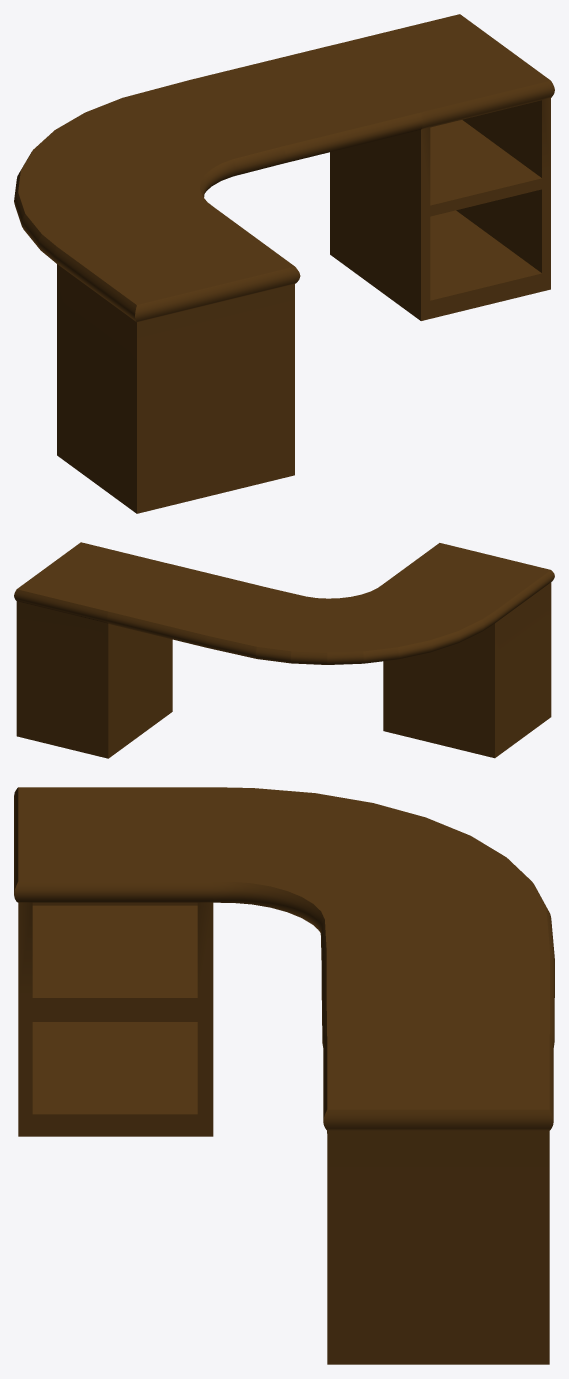
Rendered from Desk.fbx.
The picture shows the model from 3 angles, top to bottom: view 1: azimuth 30°, elevation 25°; view 2: azimuth 150°, elevation 25°; view 3: azimuth 270°, elevation 25°; orthographic projection. The views are drawn at different scales.
Parts seen in each view (by area): view 1: polySurface2; view 2: polySurface2; view 3: polySurface2.
Boxes of the visible parts, x1=… form: polySurface2: x1=14, y1=14, x2=554, y2=513; polySurface2: x1=14, y1=542, x2=554, y2=758; polySurface2: x1=14, y1=787, x2=554, y2=1364.
Size of the model in its own units: 8.68 by 3.17 by 6.09.
